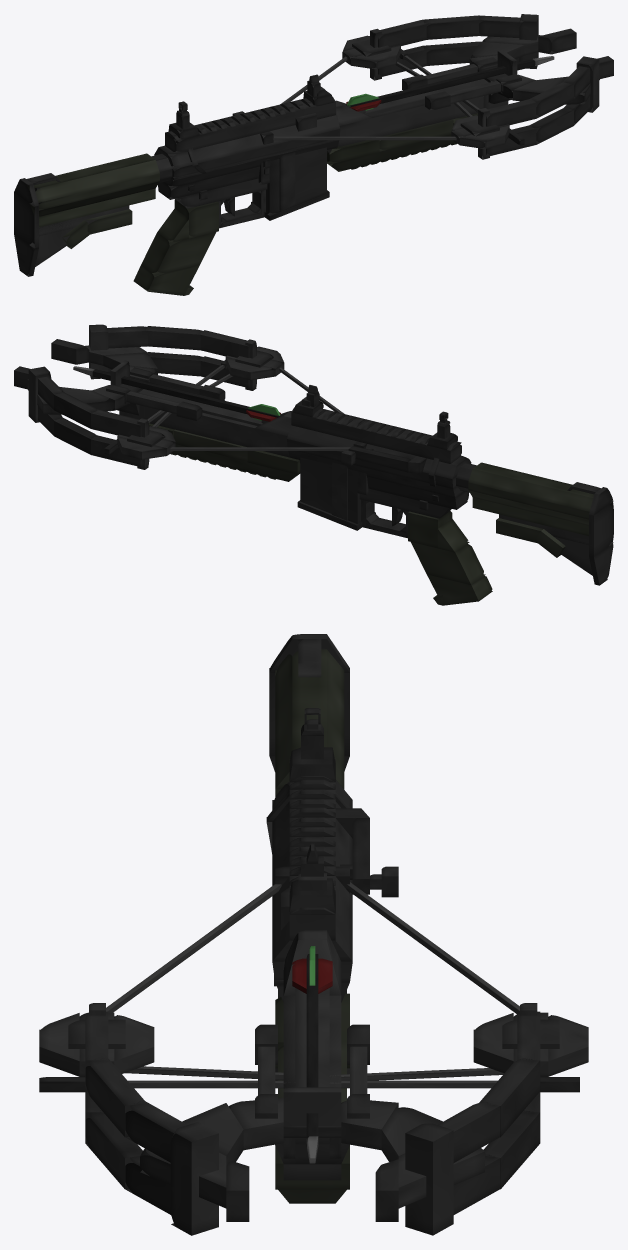
Rendered from crossbow.obj.
The picture shows the model from 3 angles, top to bottom: view 1: azimuth 30°, elevation 25°; view 2: azimuth 150°, elevation 25°; view 3: azimuth 270°, elevation 25°; orthographic projection. The views are drawn at different scales.
Parts seen in each view (by area): view 1: gunModel51, gunModel65, gunModel18, gunModel0, gunModel5, gunModel8, gunModel1, ammoModel0, gunModel54, gunModel10, gunModel94, gunModel3 (+43 smaller); view 2: gunModel18, gunModel51, gunModel65, gunModel5, gunModel8, gunModel0, ammoModel0, gunModel54, gunModel2, gunModel10, gunModel3, gunModel1 (+43 smaller); view 3: gunModel51, gunModel0, gunModel144, gunModel143, gunModel133, gunModel87, gunModel65, gunModel82, gunModel123, gunModel122, gunModel79, gunModel88 (+38 smaller).
Part boxes in pixels (x1,y1,x2,y2): gunModel51: (26,153,159,202); gunModel65: (338,96,483,146); gunModel18: (165,99,335,151); gunModel0: (154,115,340,168); gunModel5: (266,147,326,215); gunModel8: (141,232,216,275); gunModel1: (154,129,340,178); ammoModel0: (345,59,535,107); gunModel54: (39,188,155,227); gunModel10: (133,264,199,295); gunModel94: (327,118,462,171); gunModel3: (158,149,331,199); gunModel18: (291,409,461,463); gunModel51: (468,462,594,511); gunModel65: (144,406,289,457); gunModel5: (300,457,360,523); gunModel8: (411,542,485,585); gunModel0: (287,425,471,479); ammoModel0: (92,369,281,417); gunModel54: (472,497,588,535); gunModel2: (288,451,463,497); gunModel10: (427,574,492,605); gunModel3: (299,460,468,509); gunModel1: (287,439,456,488); gunModel51: (275,649,344,789); gunModel0: (272,780,352,961); gunModel144: (405,1123,453,1235); gunModel143: (170,1121,218,1235); gunModel133: (128,1080,497,1088); gunModel87: (85,1057,146,1137); gunModel65: (283,963,341,1088); gunModel82: (479,1058,539,1137); gunModel123: (283,1087,341,1144); gunModel122: (295,988,329,1087); gunModel79: (438,1101,499,1162); gunModel88: (85,1110,142,1189).
Bounding box in the file's own units: 22.8 × 7.12 × 9.55.
Materials: 1 (1 with a texture image).
